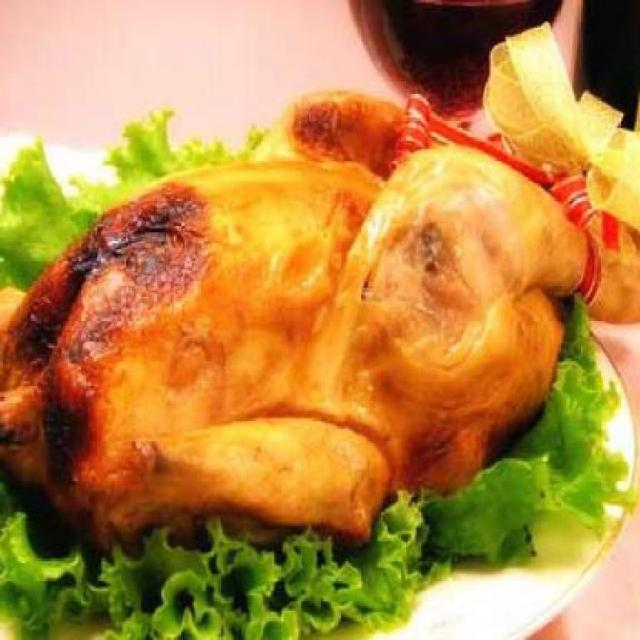Chicken roast: (31, 164, 604, 510)
